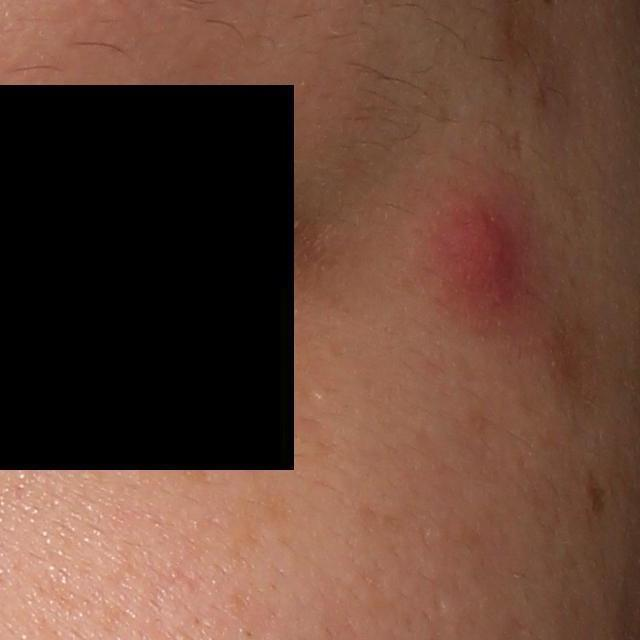papule: (415, 186, 526, 311)
